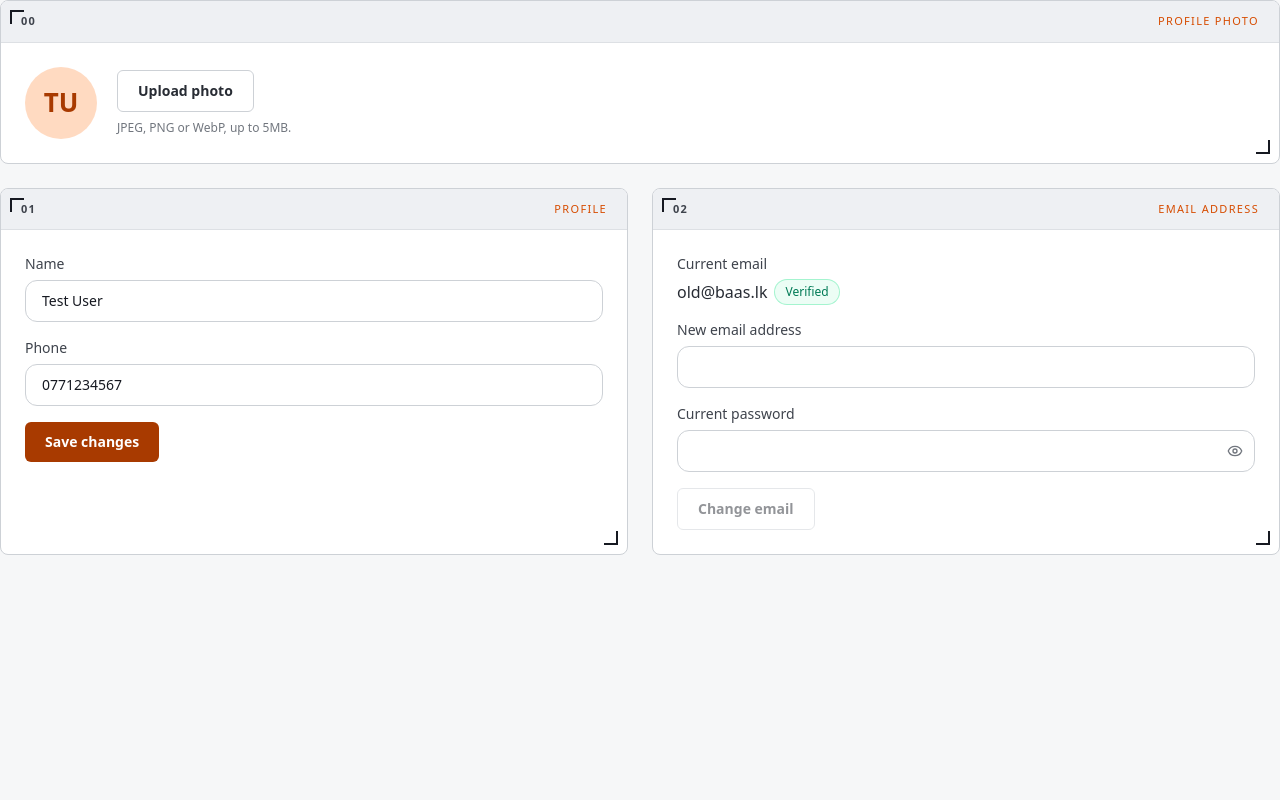
Test: AccountDetails — change email › keeps the submit disabled until both address and password are entered
Expected: the button "Change email" is disabled, [677,488,815,530]
Type "new@baas.lk" into the field labelled "New email address" at (966, 367), box [677,346,1255,388]
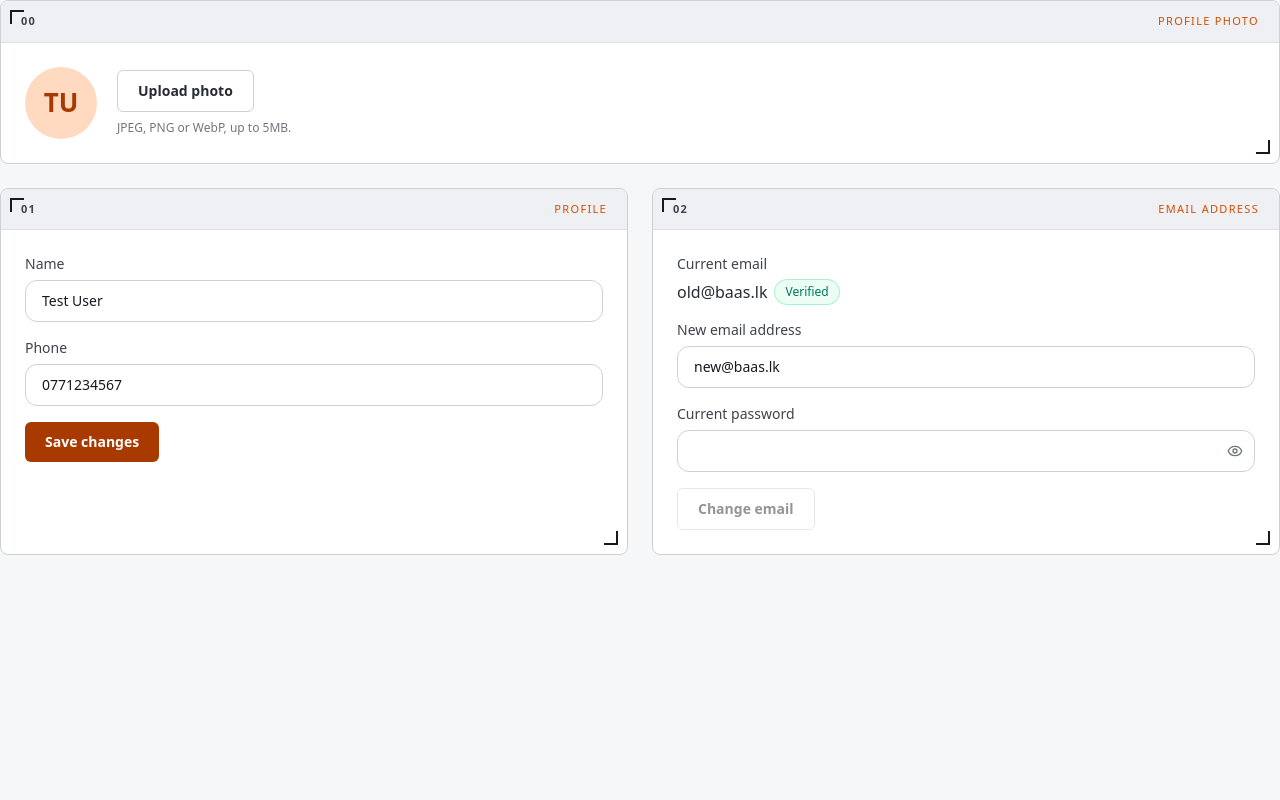
Expected: the button "Change email" is disabled, [677,488,815,530]
Type "current-pw-123" into the password field labelled "Current password" at (966, 451), box [677,430,1255,472]
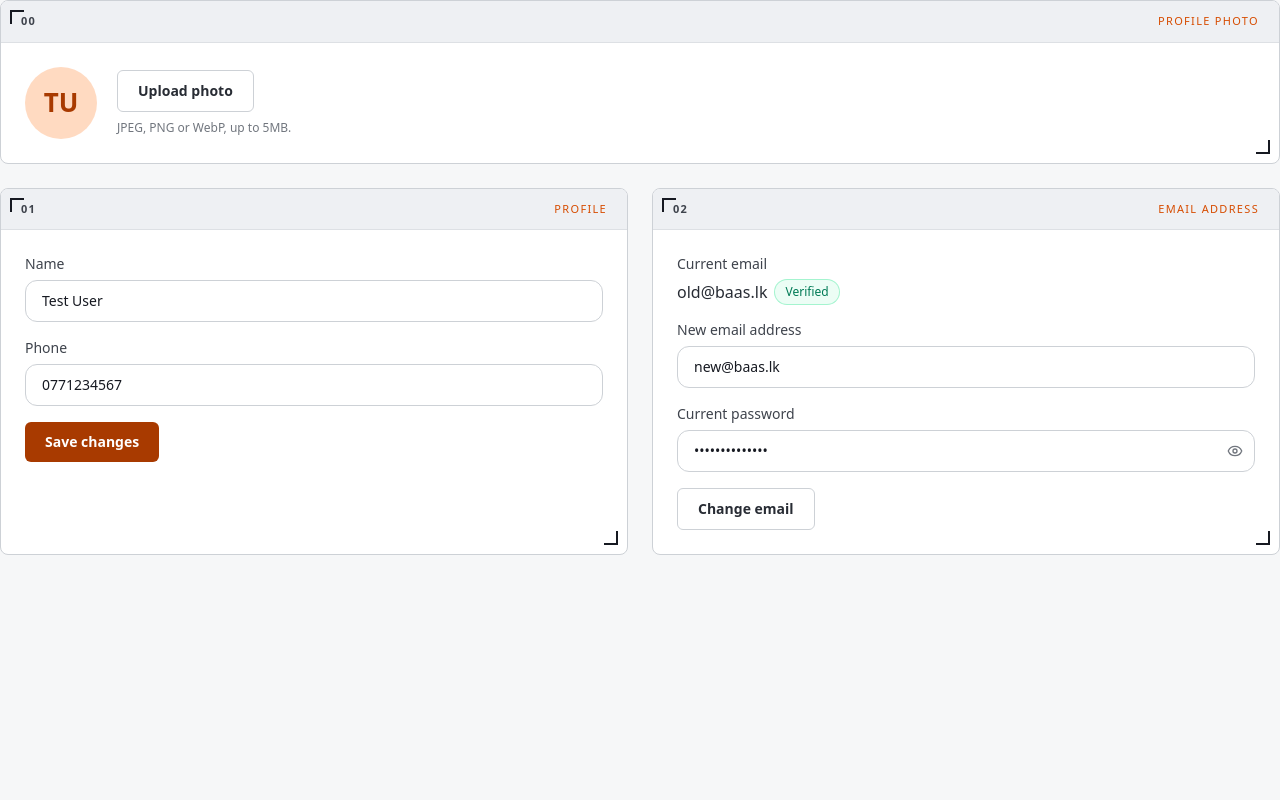
Expected: the button "Change email" is enabled, [677,488,815,530]
